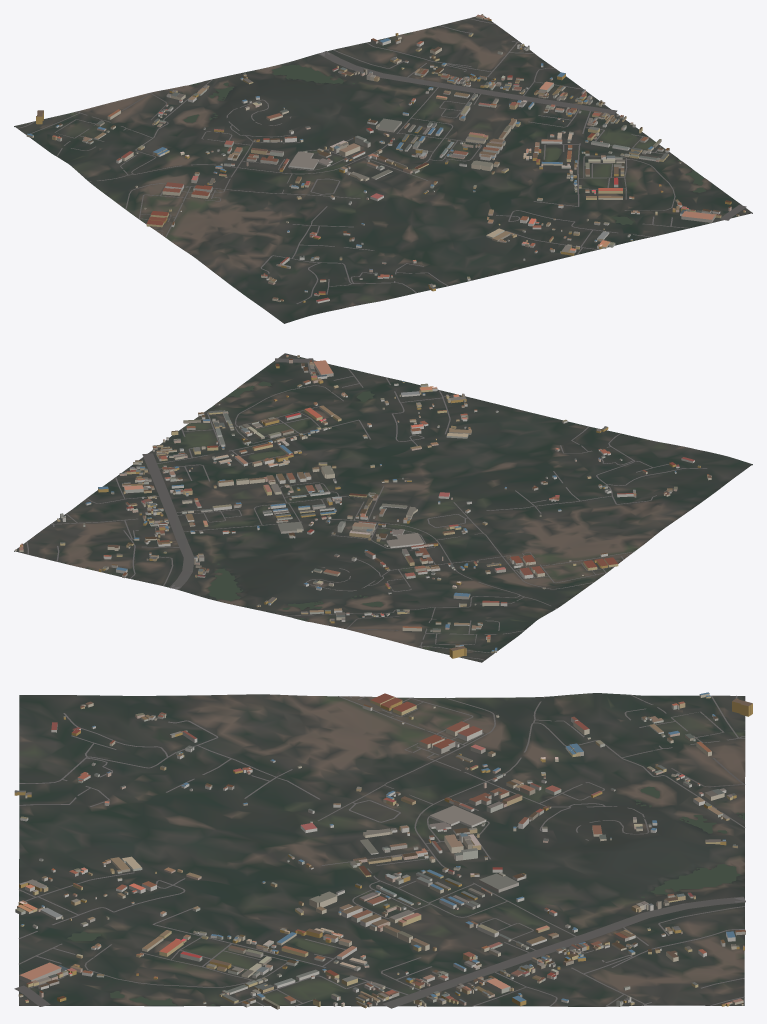
The picture shows the model from 3 angles, top to bottom: view 1: azimuth 30°, elevation 25°; view 2: azimuth 150°, elevation 25°; view 3: azimuth 270°, elevation 25°; orthographic projection. The views are drawn at different scales.
Visible parts, largest first — view 1: ground, buildings, roads, water; view 2: ground, buildings, roads, water; view 3: ground, buildings, roads, water.
Part boxes in pixels (x1=…): ground: x1=14, y1=15, x2=752, y2=323; buildings: x1=26, y1=14, x2=745, y2=303; roads: x1=17, y1=18, x2=746, y2=303; water: x1=183, y1=64, x2=706, y2=224; ground: x1=14, y1=353, x2=752, y2=662; buildings: x1=15, y1=355, x2=711, y2=658; roads: x1=26, y1=358, x2=707, y2=660; water: x1=207, y1=381, x2=383, y2=620; ground: x1=19, y1=693, x2=745, y2=1006; buildings: x1=14, y1=692, x2=752, y2=1009; roads: x1=14, y1=694, x2=745, y2=1008; water: x1=67, y1=786, x2=744, y2=1005.
Bounding box in the file's own units: 1421 × 34.34 × 1427.
